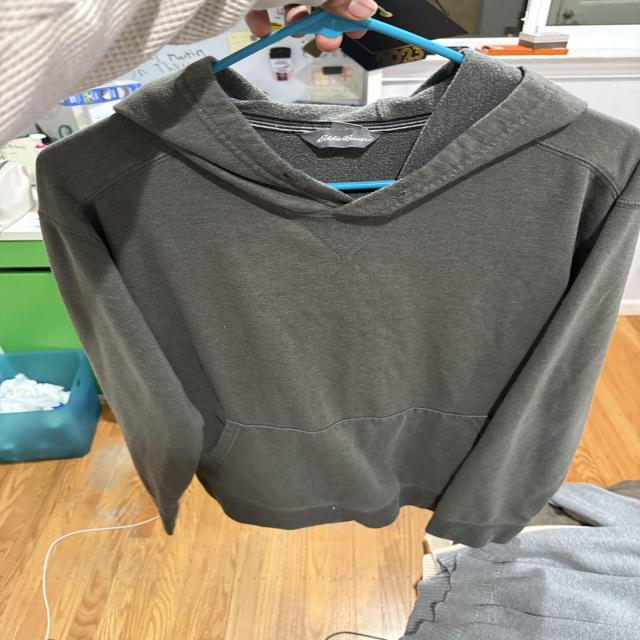back_tag: (296, 122, 386, 153)
